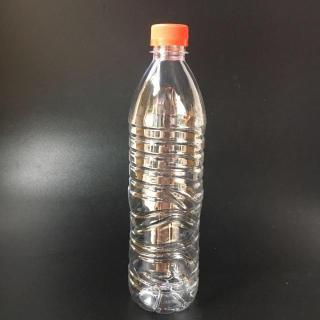Anorganik: (126, 20, 212, 320)
